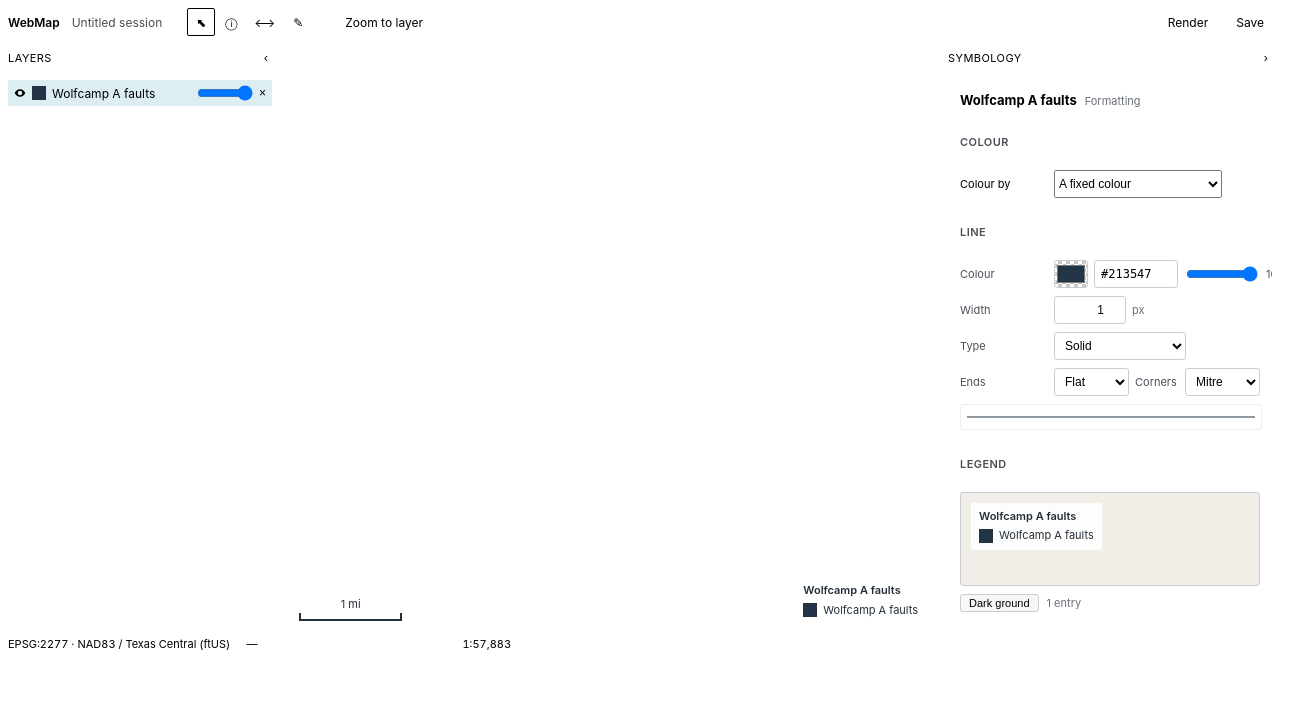
Test: starting an edit session › reports unsaved edits on another layer rather than discarding them
This screenshot has width=1292, height=720.
Click the radio button named "Edit": click(298, 22) [284,8,312,36]
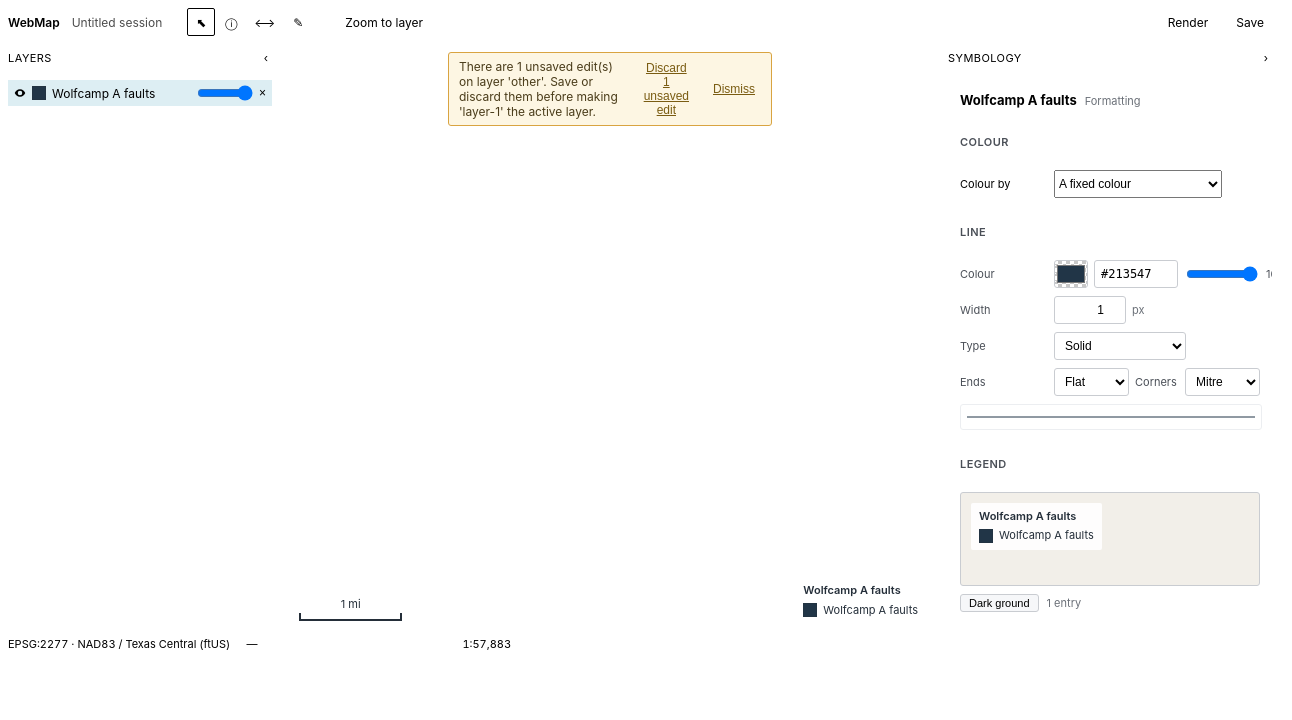
Expected: the message named "Editing notice" shows "unsaved edit", [459,59,618,119]
